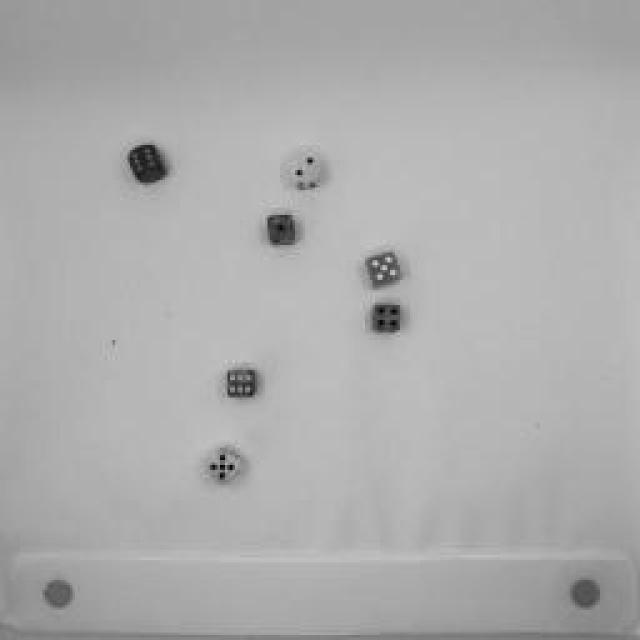dice_1: (264, 211, 298, 249)
dice_2: (281, 154, 334, 196)
dice_4: (369, 299, 409, 336)
dice_5: (198, 442, 248, 488), (364, 248, 401, 290)
dice_6: (118, 142, 172, 188), (220, 362, 260, 402)
